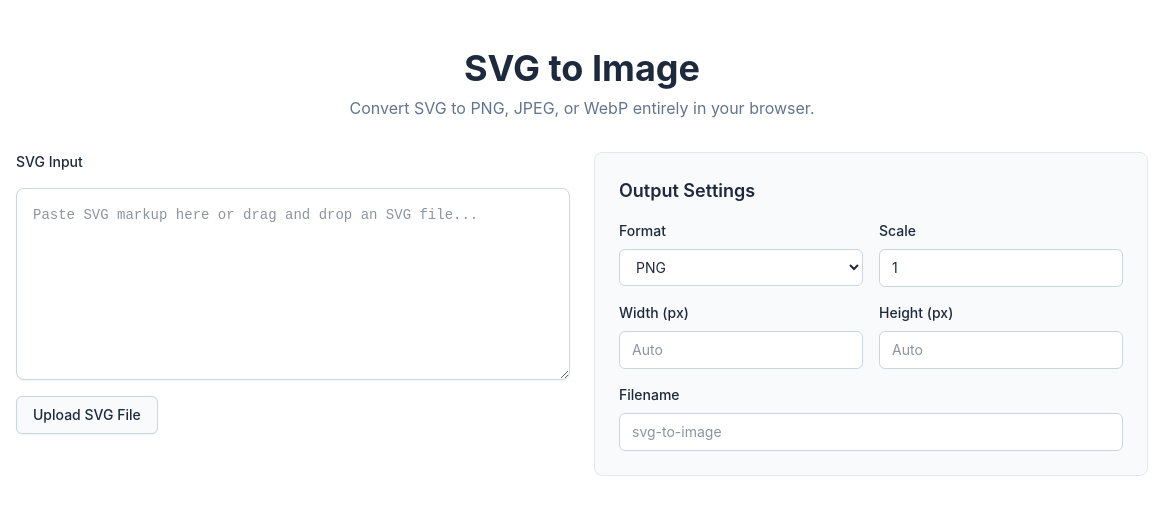
Test: App component › shows an error for invalid svg markup
This screenshot has width=1165, height=532.
Type "not svg" into the text box labelled "SVG Input" at (293, 284), box [16,188,570,380]
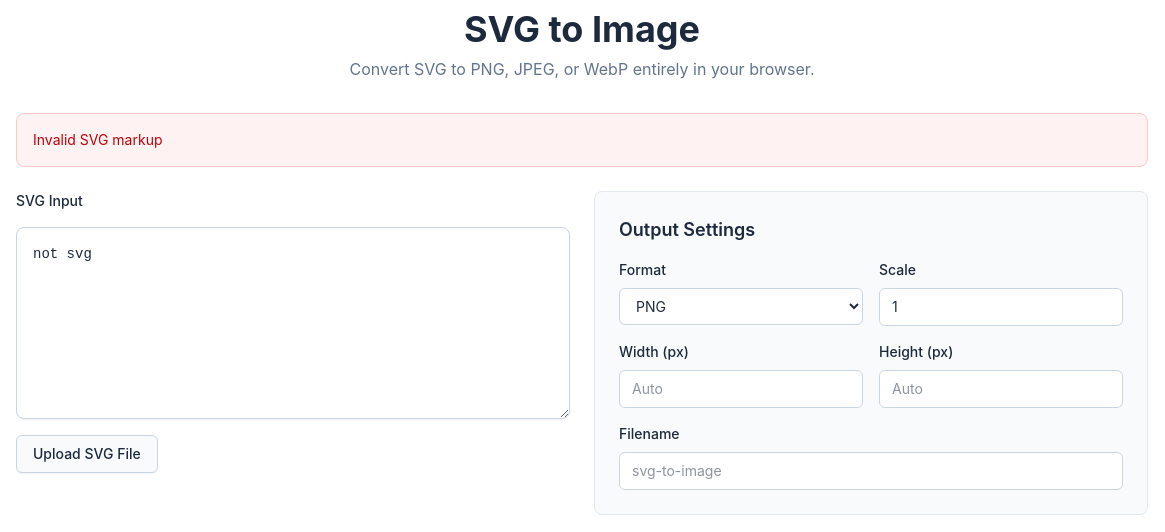
Now the message reads "Invalid SVG markup", box [33,131,162,148]
